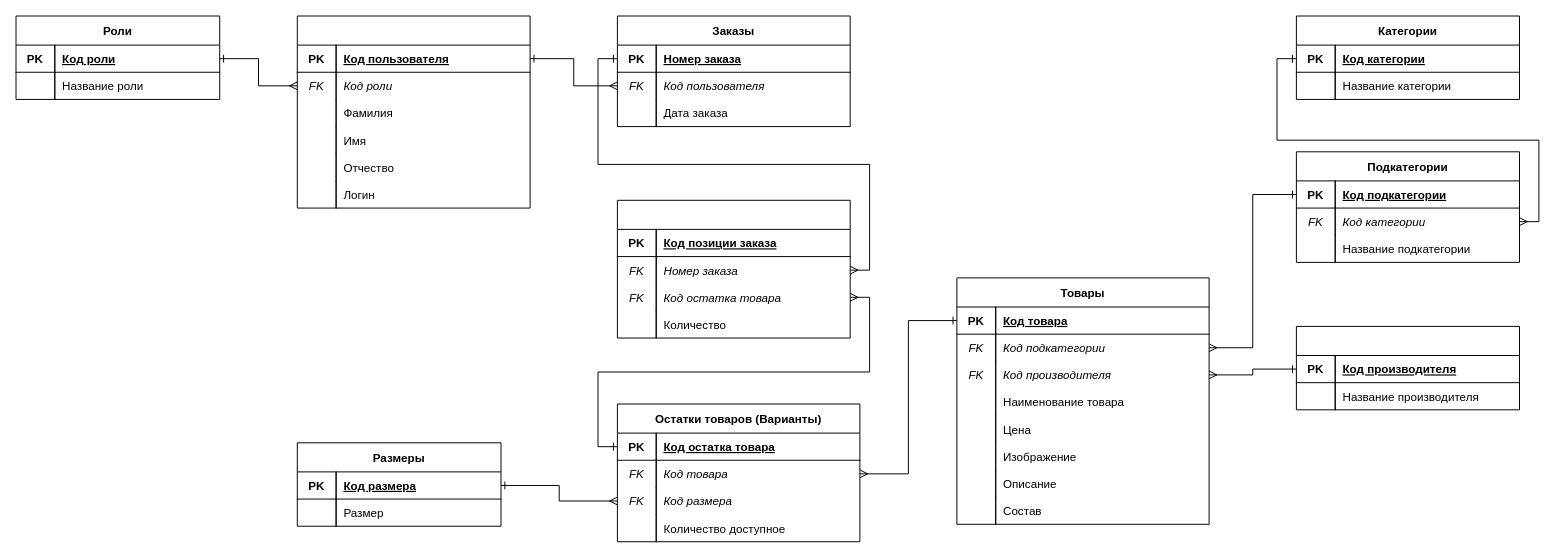
Image size: 1555x558. Some labels were removed from this diagram. Here are the shapes that lost their labels. From the top down, the box of each, then its label:
(296, 15, 530, 208): Пользователи
(616, 199, 850, 338): Состав заказа
(1295, 325, 1520, 410): Производители
